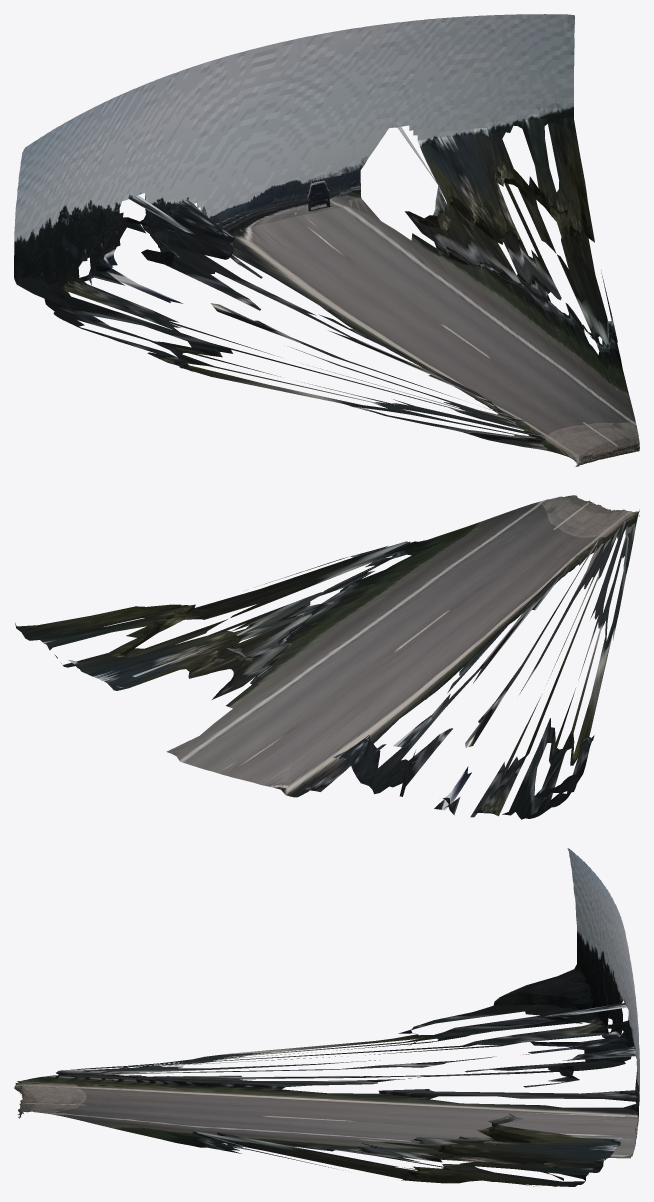
The picture shows the model from 3 angles, top to bottom: view 1: azimuth 30°, elevation 25°; view 2: azimuth 150°, elevation 25°; view 3: azimuth 270°, elevation 25°; orthographic projection. The views are drawn at different scales.
Parts seen in each view (by area): view 1: defaultobject; view 2: defaultobject; view 3: defaultobject.
Part boxes in pixels (x1=…): defaultobject: x1=14, y1=14, x2=639, y2=466; defaultobject: x1=15, y1=495, x2=639, y2=819; defaultobject: x1=14, y1=848, x2=639, y2=1186.
Size of the model in its own units: 41.14 by 13.23 by 44.61.
1 material, 1 textured.
